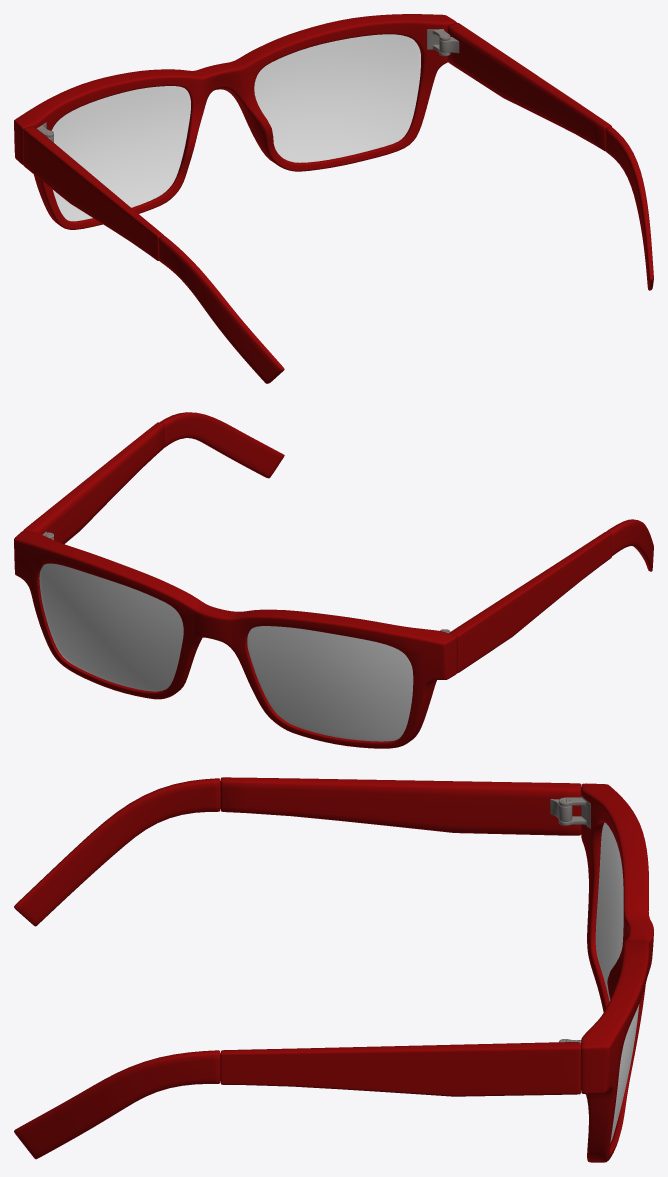
Rendered from prova4.gltf.
The picture shows the model from 3 angles, top to bottom: view 1: azimuth 30°, elevation 25°; view 2: azimuth 150°, elevation 25°; view 3: azimuth 270°, elevation 25°; orthographic projection. The views are drawn at different scales.
Visible parts, largest first — view 1: GLASSES_3.014, GLASSES, GLASSES_3.012, GLASSES_3.016, GLASSES_3.017, GLASSES_3.015; view 2: GLASSES_3.014, GLASSES, GLASSES_3.016, GLASSES_3.012, GLASSES_3.015, GLASSES_3.017; view 3: GLASSES_3.012, GLASSES_3.016, GLASSES, GLASSES_3.015, GLASSES_3.017, GLASSES_3.014.
Boxes of the visible parts, x1,y1,x2,y2 form: GLASSES_3.014: (51, 34, 420, 221); GLASSES: (14, 14, 456, 229); GLASSES_3.012: (439, 22, 611, 151); GLASSES_3.016: (23, 126, 163, 260); GLASSES_3.017: (158, 235, 284, 383); GLASSES_3.015: (605, 126, 653, 290); GLASSES_3.014: (39, 563, 413, 741); GLASSES: (14, 531, 456, 748); GLASSES_3.016: (441, 532, 611, 673); GLASSES_3.012: (23, 422, 164, 544); GLASSES_3.015: (159, 412, 284, 478); GLASSES_3.017: (606, 519, 653, 571); GLASSES_3.012: (220, 1039, 580, 1096); GLASSES_3.016: (220, 777, 580, 835); GLASSES: (558, 783, 653, 1162); GLASSES_3.015: (14, 1050, 220, 1159); GLASSES_3.017: (14, 778, 220, 926); GLASSES_3.014: (595, 822, 639, 1142).
Size of the model in its own units: 0.1584 by 0.0436 by 0.1548.
Materials: 1 (1 with a texture image).
